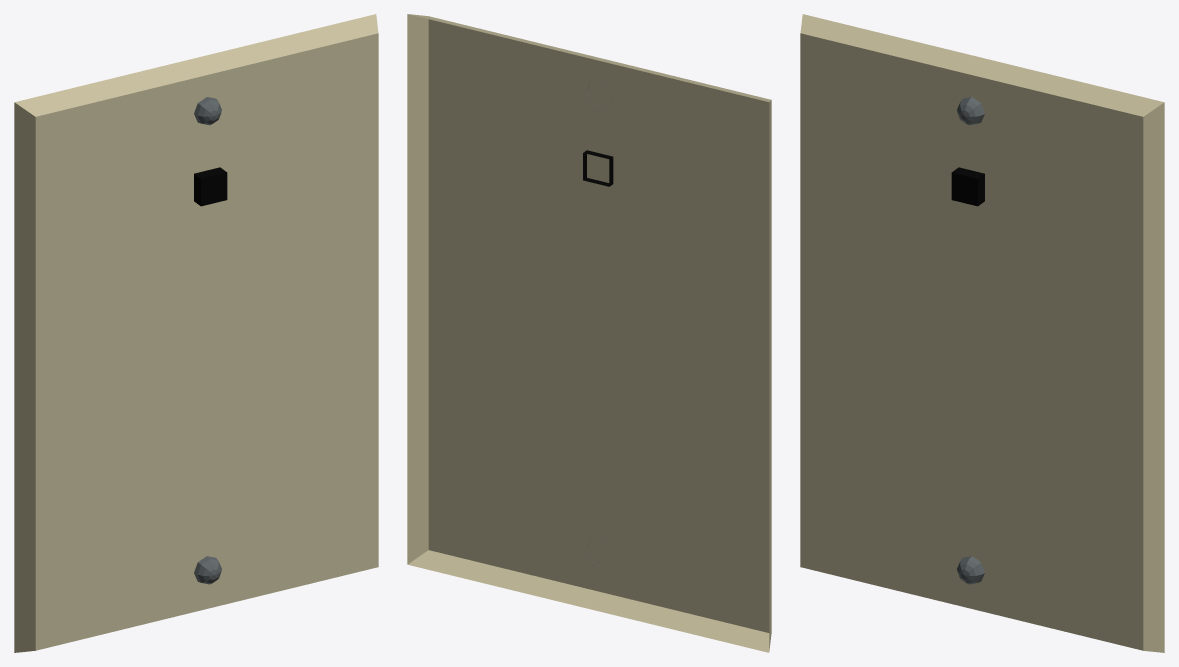
File: m_duck_outlet2_lod1.fbx
The picture shows the model from 3 angles, left to right: view 1: azimuth 30°, elevation 25°; view 2: azimuth 150°, elevation 25°; view 3: azimuth 330°, elevation 25°; orthographic projection.
Parts seen in each view (by area): view 1: polySurface1; view 2: polySurface1; view 3: polySurface1.
Part boxes in pixels (bbox=[...]): polySurface1: bbox=[14, 14, 378, 652]; polySurface1: bbox=[407, 14, 771, 652]; polySurface1: bbox=[800, 14, 1164, 652].
Bounding box in the file's own units: 2.75 × 4 × 0.2521.
